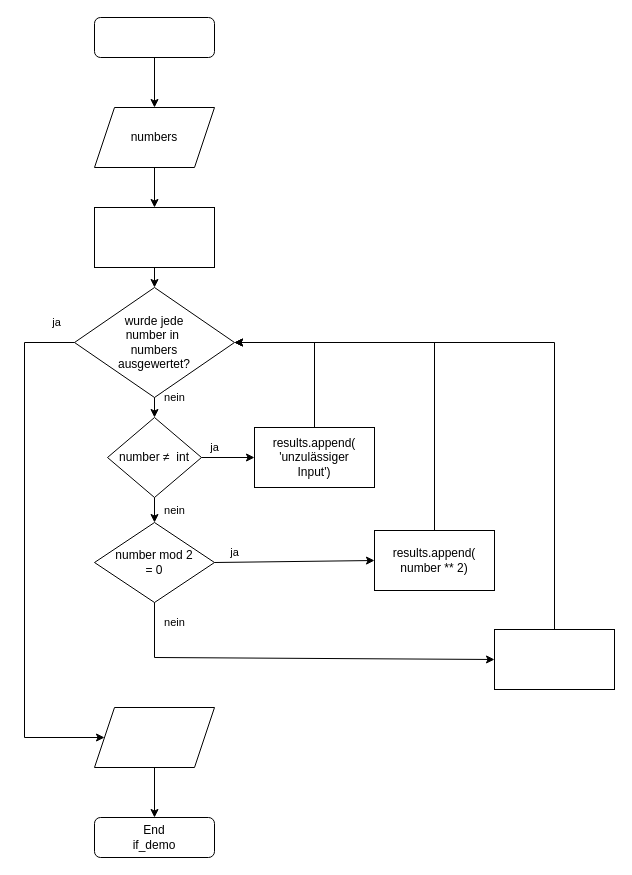
Some shapes in this 632 by 875 pixel diagram are drawn without their labels. Each missing label, with the box of its shape:
Beginn if_demo: (94, 16, 214, 58)
results: (94, 706, 214, 768)
results = []: (94, 206, 214, 268)
results.append( number ** 3): (494, 628, 614, 690)
